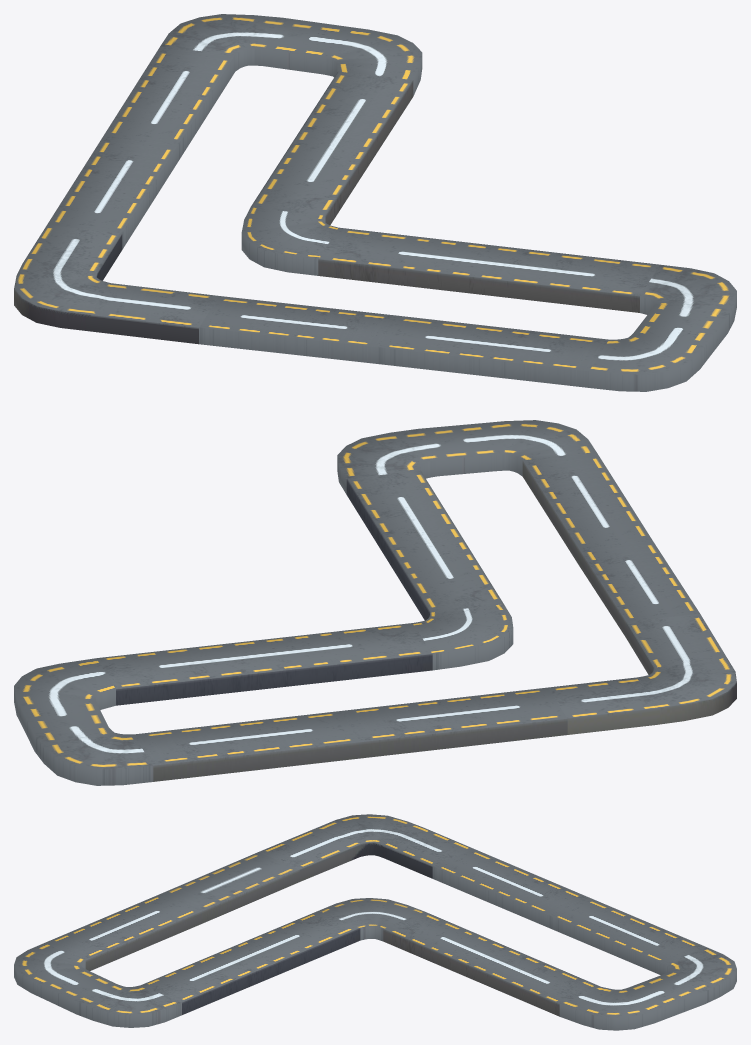
The model's file is road3.glb.
The picture shows the model from 3 angles, top to bottom: view 1: azimuth 30°, elevation 25°; view 2: azimuth 150°, elevation 25°; view 3: azimuth 270°, elevation 25°; orthographic projection. The views are drawn at different scales.
Parts seen in each view (by area): view 1: Rodja_road3; view 2: Rodja_road3; view 3: Rodja_road3.
Part boxes in pixels (x1,y1,x2,y2): Rodja_road3: (14,14,736,391); Rodja_road3: (14,420,736,785); Rodja_road3: (14,814,736,1030).
Size of the model in its own units: 9.1 by 0.2588 by 13.63.
Materials: 1 (1 with a texture image).
